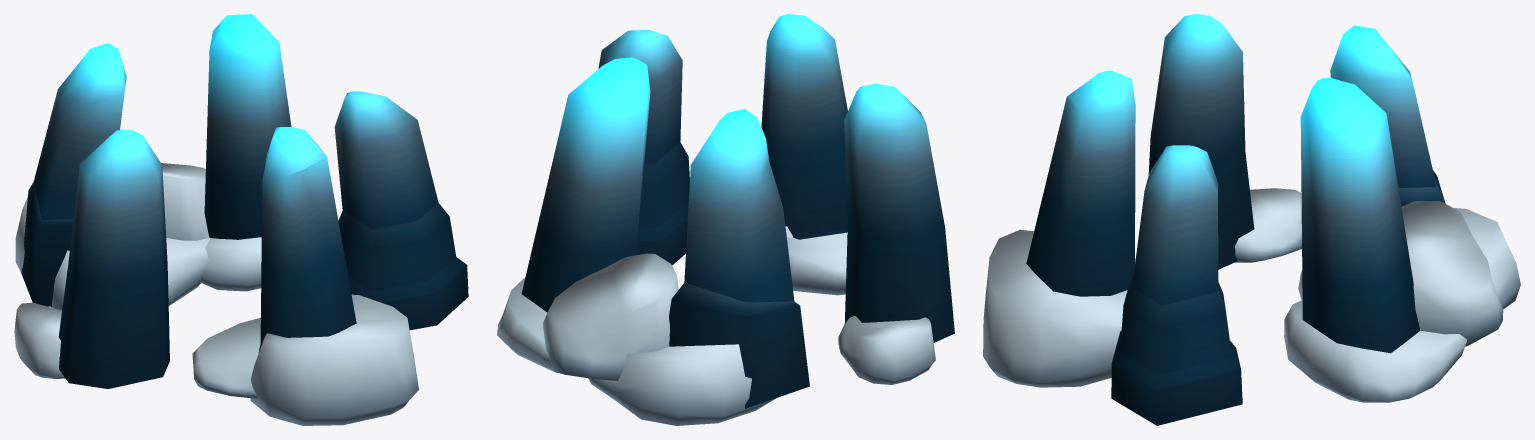
File: stone-monument-01-lit.glb
The picture shows the model from 3 angles, left to right: view 1: azimuth 30°, elevation 25°; view 2: azimuth 150°, elevation 25°; view 3: azimuth 270°, elevation 25°; orthographic projection. The views are drawn at different scales.
Parts seen in each view (by area): view 1: Stone Monument 01 Lit, Snow Clump 01 (3), Snow Clump 01 (2), Snow Clump 01 (1), Snow Clump 01 (5), Snow Clump 01 (4), Snow Clump 01; view 2: Stone Monument 01 Lit, Snow Clump 01 (5), Snow Clump 01 (1), Snow Clump 01 (4), Snow Clump 01 (2), Snow Clump 01; view 3: Stone Monument 01 Lit, Snow Clump 01 (3), Snow Clump 01 (5), Snow Clump 01, Snow Clump 01 (4), Snow Clump 01 (1).
Part boxes in pixels (<box>): Stone Monument 01 Lit: <box>21,14,468,388</box>; Snow Clump 01 (3): <box>250,294,418,425</box>; Snow Clump 01 (2): <box>192,317,260,398</box>; Snow Clump 01 (1): <box>15,197,210,309</box>; Snow Clump 01 (5): <box>161,163,209,240</box>; Snow Clump 01 (4): <box>14,302,65,378</box>; Snow Clump 01: <box>200,237,261,291</box>; Stone Monument 01 Lit: <box>521,14,954,408</box>; Snow Clump 01 (5): <box>542,253,678,380</box>; Snow Clump 01 (1): <box>588,344,775,425</box>; Snow Clump 01 (4): <box>838,315,935,384</box>; Snow Clump 01 (2): <box>787,232,847,295</box>; Snow Clump 01: <box>497,278,554,371</box>; Stone Monument 01 Lit: <box>1026,14,1445,425</box>; Snow Clump 01 (3): <box>983,229,1127,387</box>; Snow Clump 01 (5): <box>1401,201,1503,346</box>; Snow Clump 01: <box>1284,300,1466,402</box>; Snow Clump 01 (4): <box>1235,188,1301,262</box>; Snow Clump 01 (1): <box>1298,208,1520,309</box>.
Size of the model in its own units: 5.05 by 3.38 by 5.59.
1 material, 1 textured.
